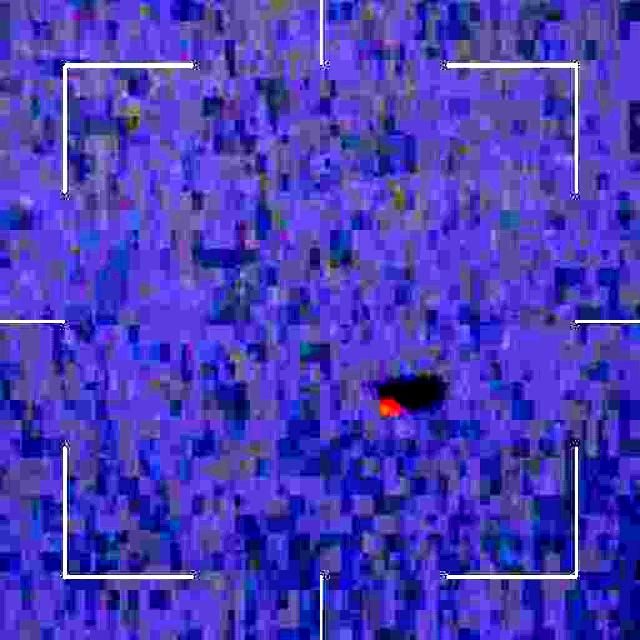bird: (369, 384, 405, 429)
